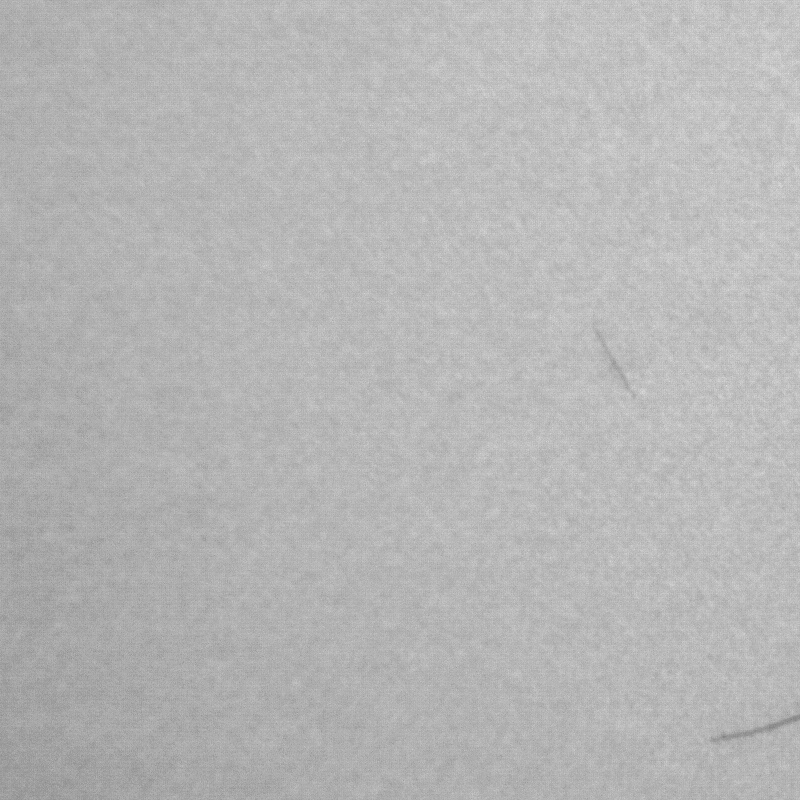defect: (598, 332, 637, 403), (707, 715, 799, 742)
